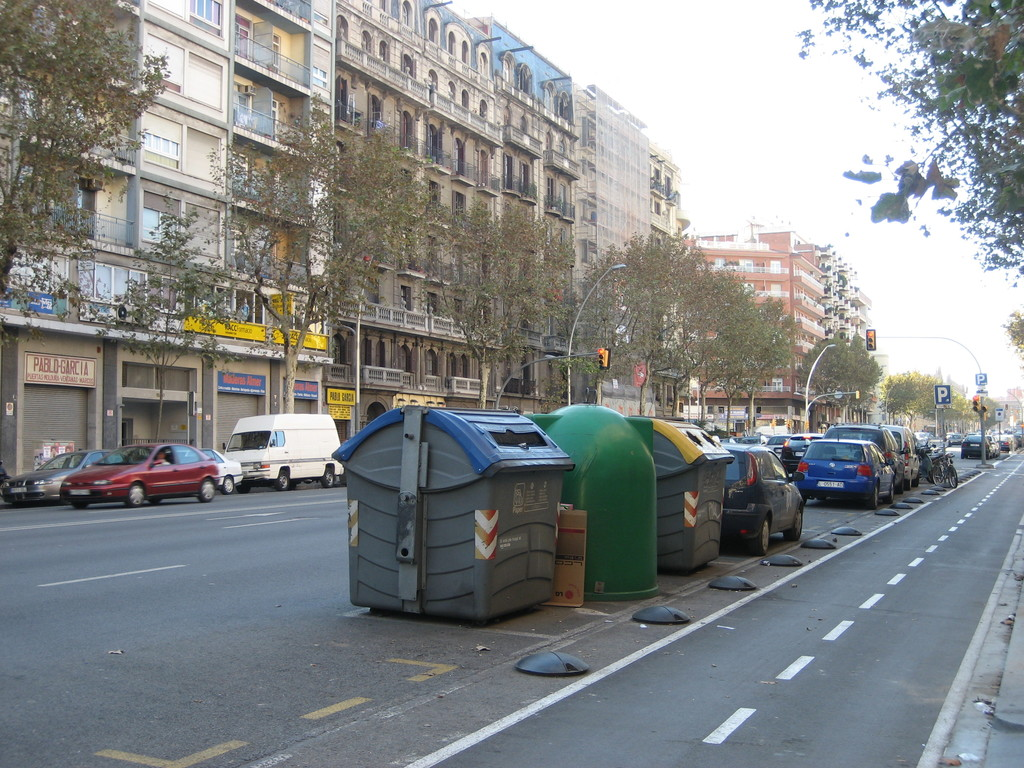Car: (721, 423, 943, 512), (55, 444, 218, 510), (718, 443, 808, 553), (2, 447, 122, 510), (818, 421, 911, 499), (768, 426, 824, 480), (946, 428, 1018, 458), (895, 421, 922, 499), (205, 447, 247, 495), (956, 431, 990, 469), (719, 431, 766, 447), (759, 430, 789, 454)
